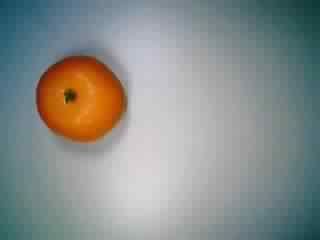orange: (32, 51, 127, 153)
